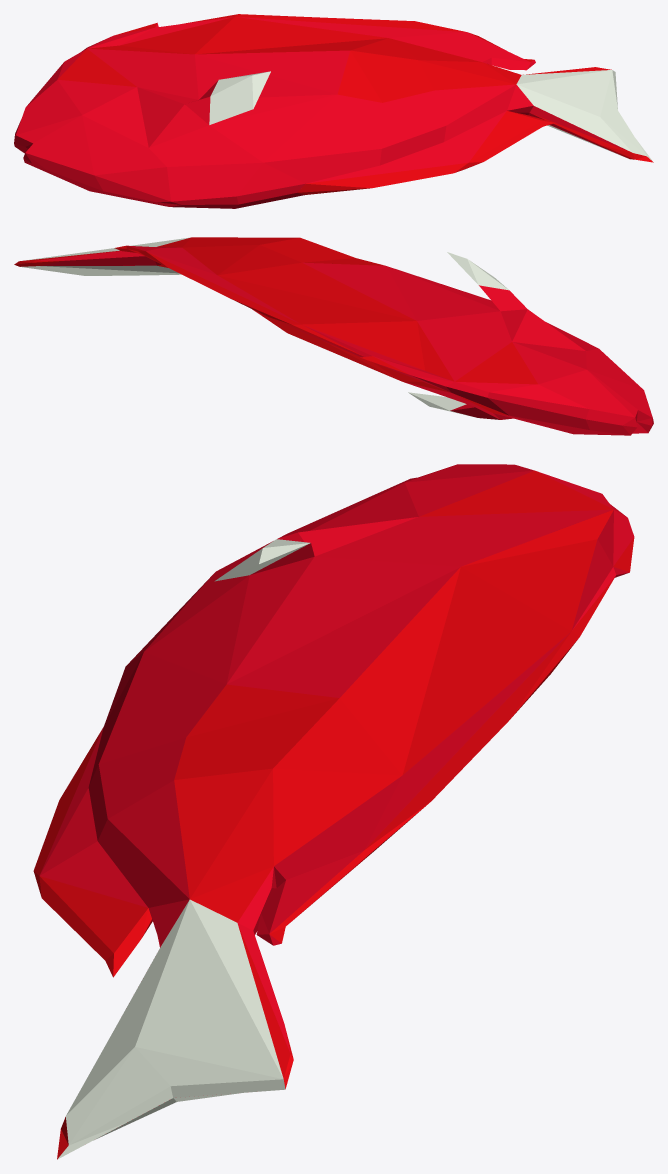
The model's file is Dory.glb.
3 views of the same model, one above another, from view 1: azimuth 30°, elevation 25°; view 2: azimuth 150°, elevation 25°; view 3: azimuth 270°, elevation 25° (orthographic). The views are drawn at different scales.
Parts seen in each view (by area): view 1: Dory_DoryMesh; view 2: Dory_DoryMesh; view 3: Dory_DoryMesh.
Part boxes in pixels (<box>): Dory_DoryMesh: <box>14,14,653,208</box>; Dory_DoryMesh: <box>14,237,653,435</box>; Dory_DoryMesh: <box>33,464,634,1159</box>.
Bounding box in the file's own units: 0.7087 × 0.1639 × 0.3293.
